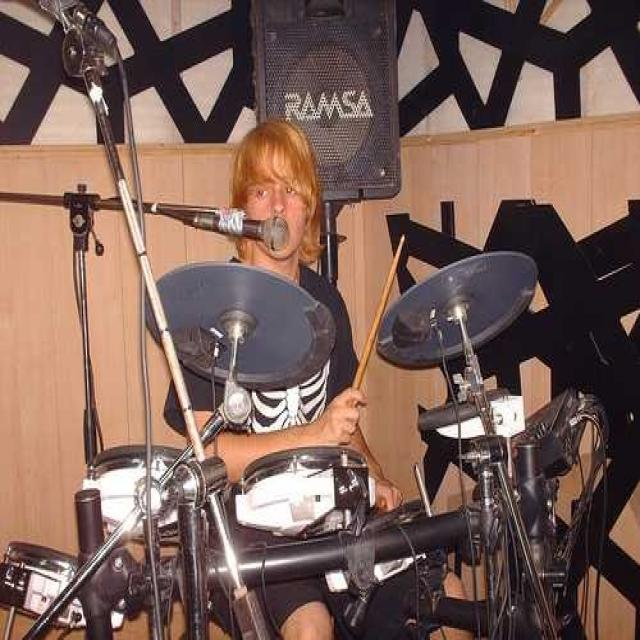microphone: (217, 206, 295, 257)
